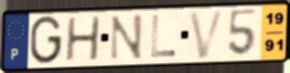5: (226, 7, 260, 59)
G: (28, 14, 64, 66)
H: (63, 15, 102, 63)
L: (149, 14, 177, 59)
N: (108, 13, 145, 62)
V: (187, 8, 228, 61)
